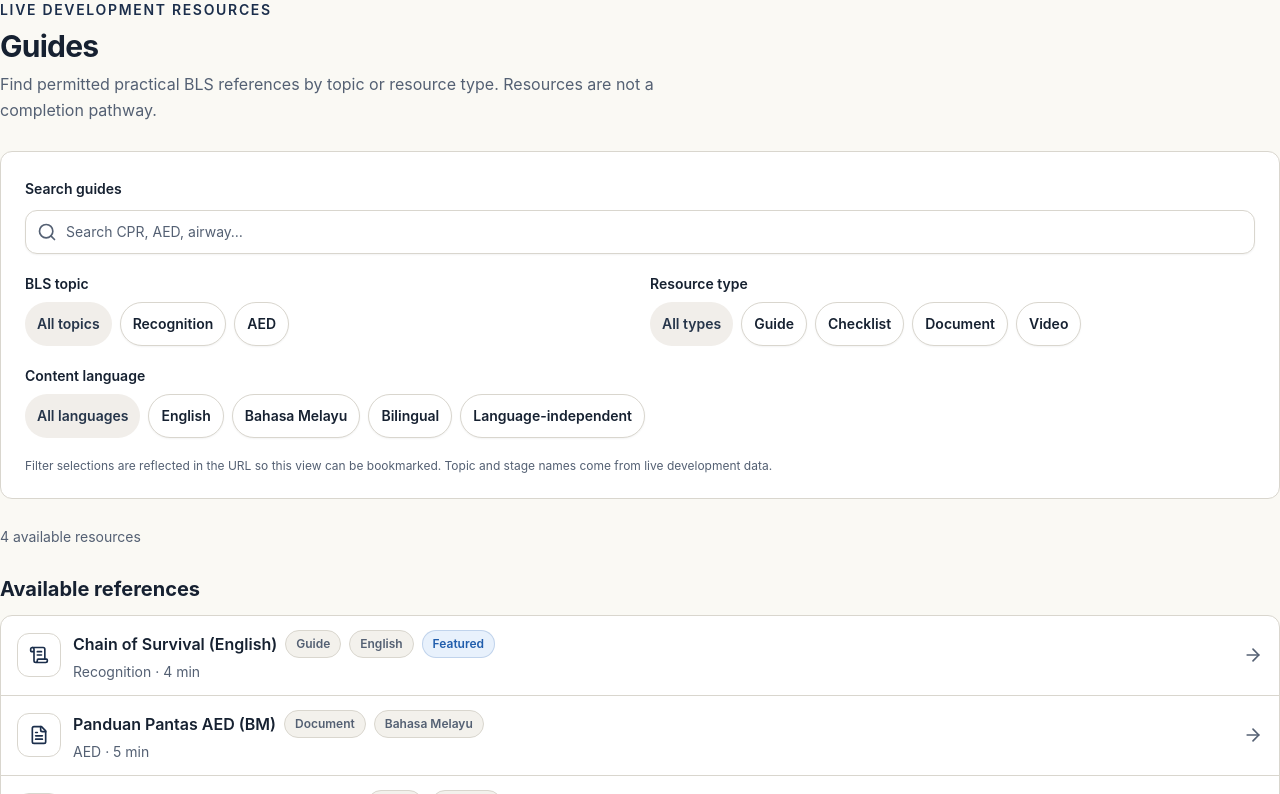
Scenario: ResourceLibraryPage live filtering and URL normalization › demonstrates locked language filtering semantics across all 5 filter options
This screenshot has width=1280, height=794.
Expected: the link "Chain of Survival" is shown, [1,616,1279,696]
Expected: the link "Panduan Pantas AED (BM) Document Bahasa Melayu AED · 5 min" is shown, [1,696,1279,776]
# ENGLISH: Shows EN + Bilingual
Click the button "English": (186, 416) [148,394,224,438]
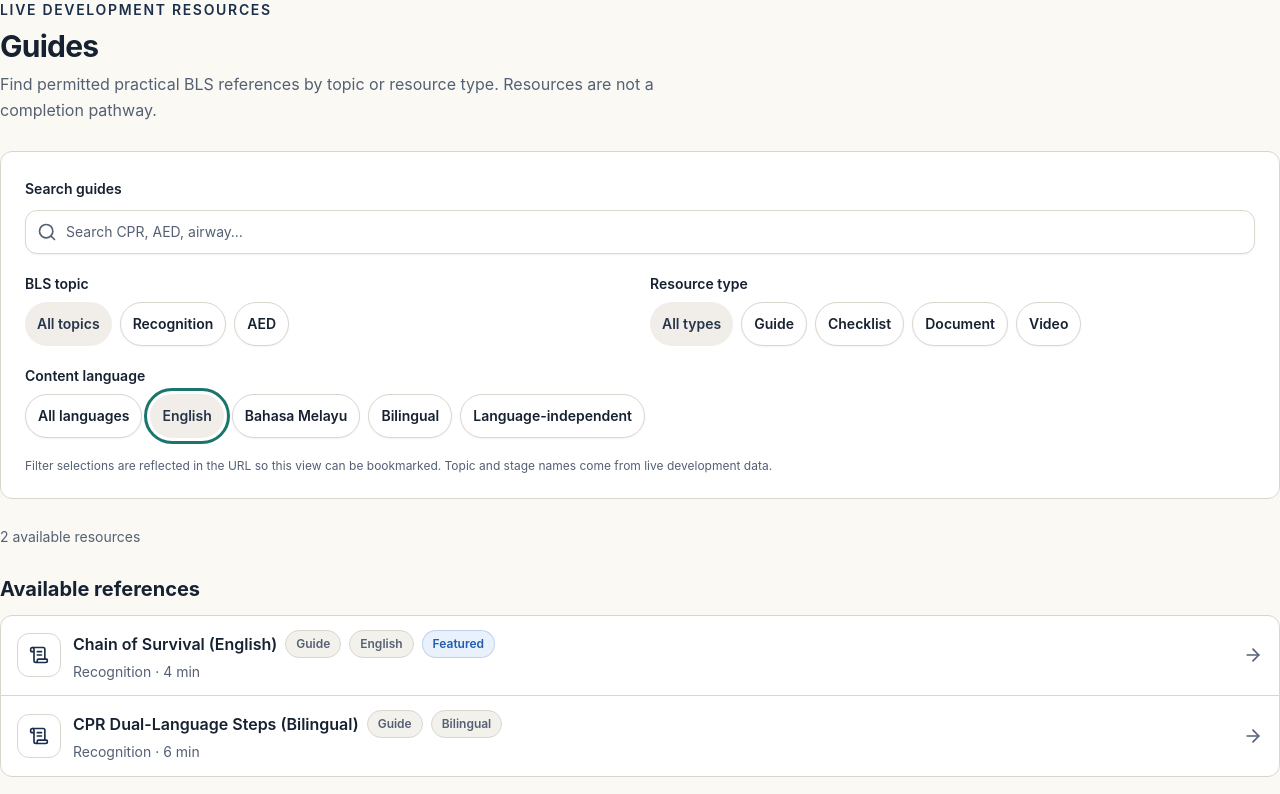
Expected: the link "Chain of Survival" is shown, [1,616,1279,696]
Expected: the link "Panduan Pantas AED" is gone
Expected: the text "2 available resources" is shown, [0,528,140,545]
# BAHASA MELAYU: Shows MS + Bilingual
Click the button "Bahasa Melayu": (296, 416) [232,394,360,438]
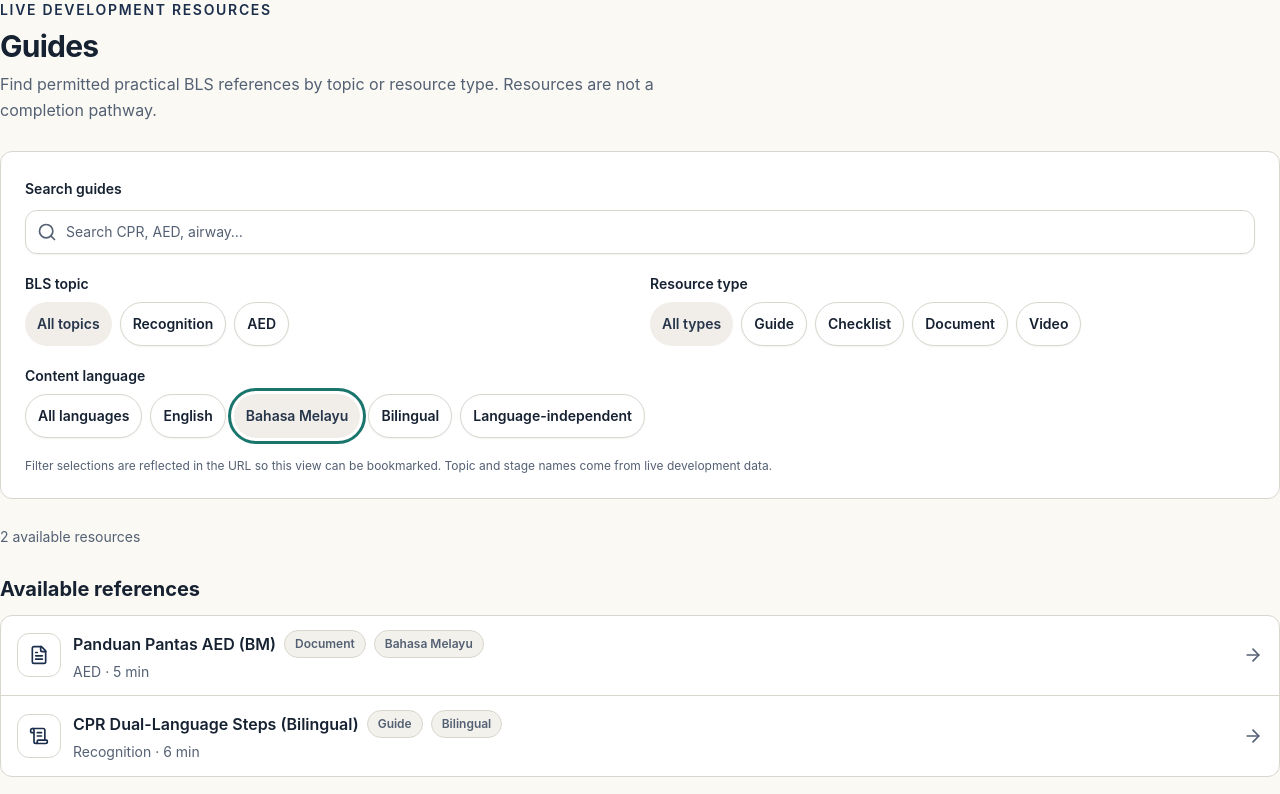
Expected: the text "2 available resources" is shown, [0,528,140,545]
Expected: the link "Panduan Pantas AED (BM) Document Bahasa Melayu AED · 5 min" is shown, [1,616,1279,696]
Expected: the link "Chain of Survival" is gone
# BILINGUAL: Shows Bilingual only
Click the button "Bilingual": (410, 416) [368,394,452,438]
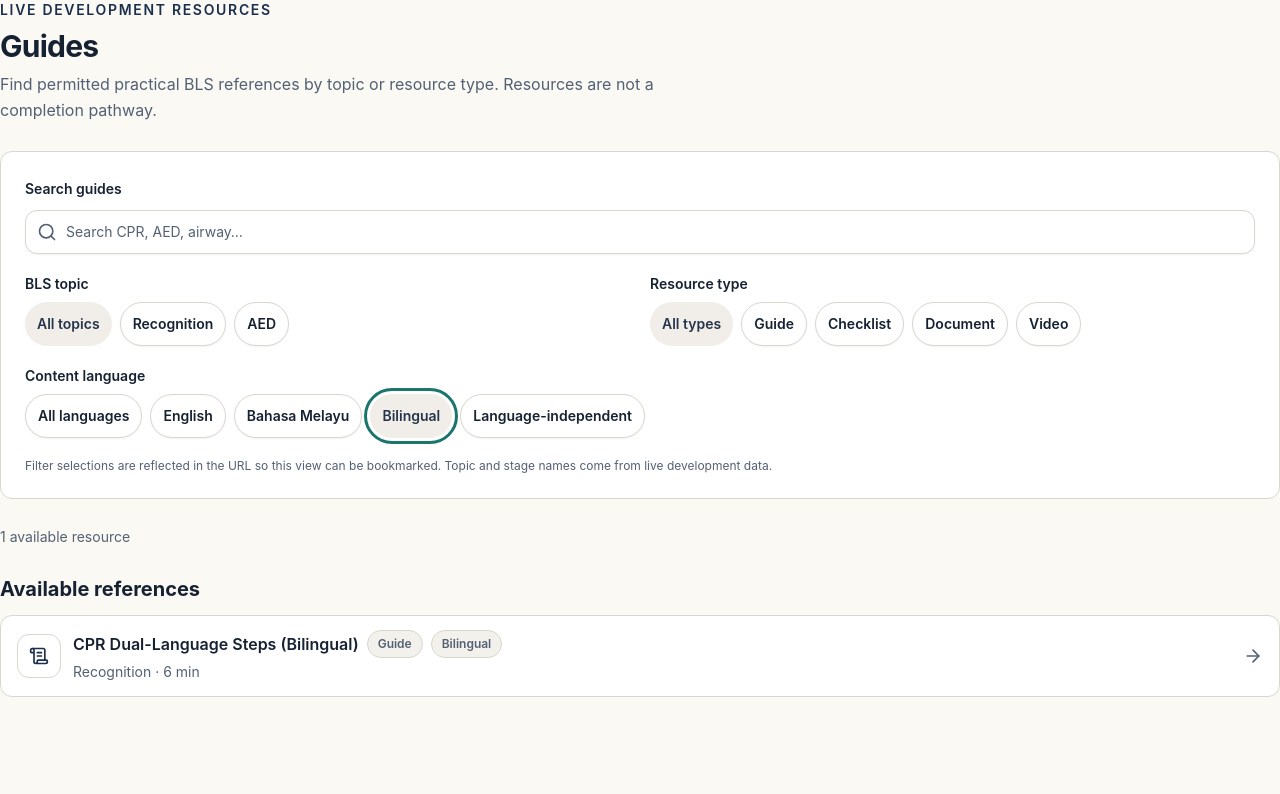
Expected: the link "CPR Dual-Language Steps" is shown, [1,616,1279,696]
Expected: the link "Panduan Pantas AED" is gone
Expected: the text "1 available resource" is shown, [0,528,130,545]
# LANGUAGE-INDEPENDENT: Shows language-independent only
Click the button "Language-independent": (553, 416) [460,394,645,438]
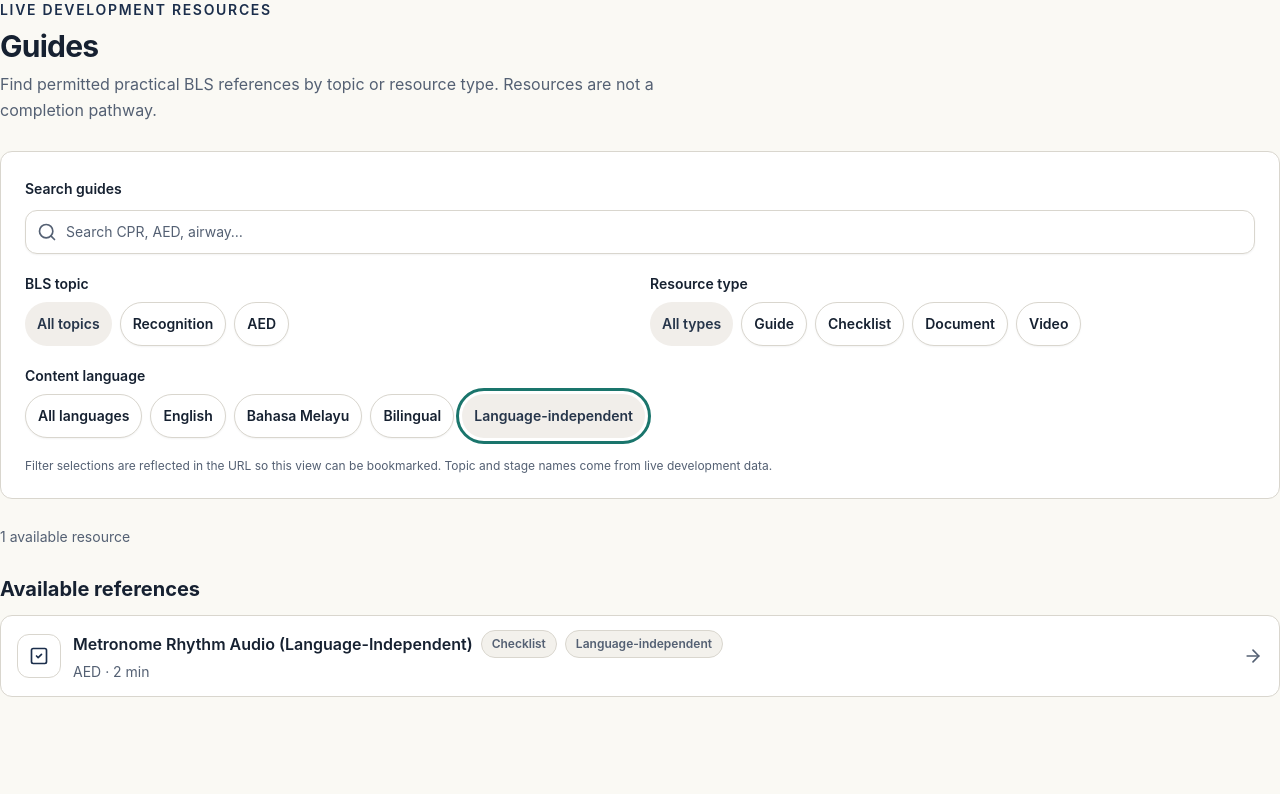
Expected: the text "1 available resource" is shown, [0,528,130,545]
Expected: the link "Metronome Rhythm Audio" is shown, [1,616,1279,696]
Expected: the link "CPR Dual-Language Steps" is gone
# Reset to All languages
Click the button "All languages": (84, 416) [25,394,142,438]
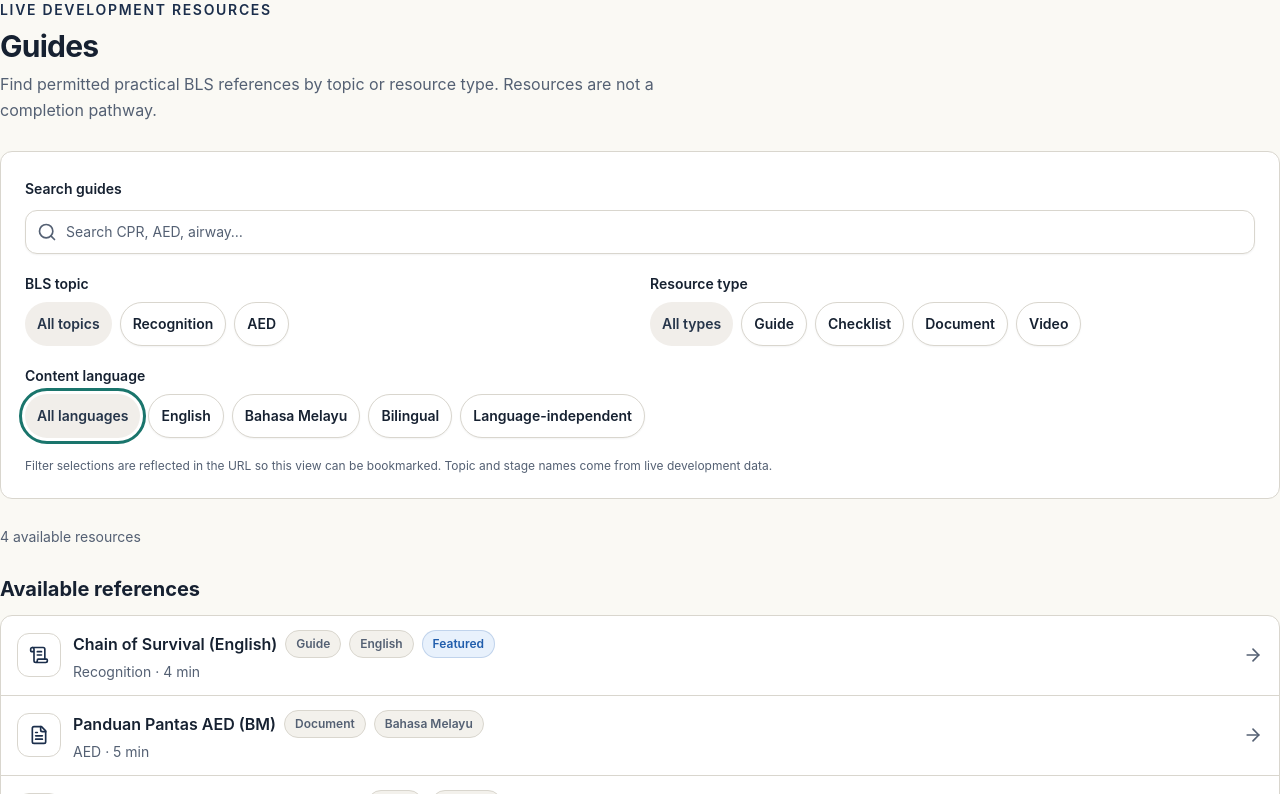
Expected: the text "4 available resources" is shown, [0,528,141,545]
